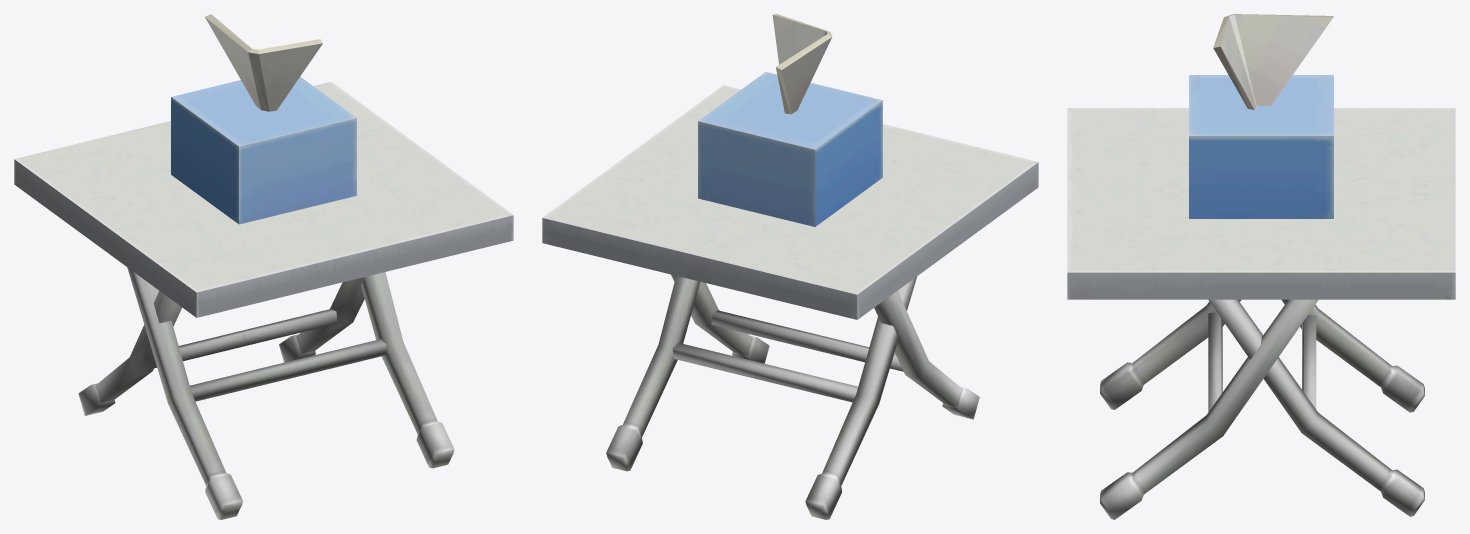
Rendered from my_seahouse_01_table_01.glb.
The picture shows the model from 3 angles, left to right: view 1: azimuth 30°, elevation 25°; view 2: azimuth 150°, elevation 25°; view 3: azimuth 270°, elevation 25°; orthographic projection. The views are drawn at different scales.
Parts seen in each view (by area): view 1: my_seahouse_01_table_01; view 2: my_seahouse_01_table_01; view 3: my_seahouse_01_table_01.
Part boxes in pixels (x1,y1,x2,y2): my_seahouse_01_table_01: [14, 14, 513, 519]; my_seahouse_01_table_01: [542, 14, 1038, 519]; my_seahouse_01_table_01: [1067, 14, 1455, 519].
Size of the model in its own units: 0.00496 by 0.00609 by 0.00495.
1 material, 1 textured.
